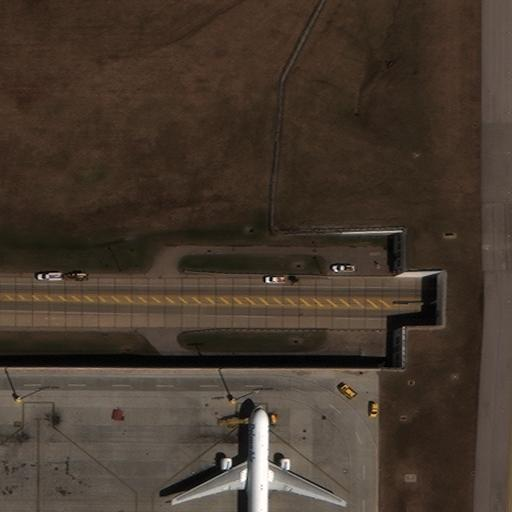Large Civil Transport: (170, 404, 346, 511)
